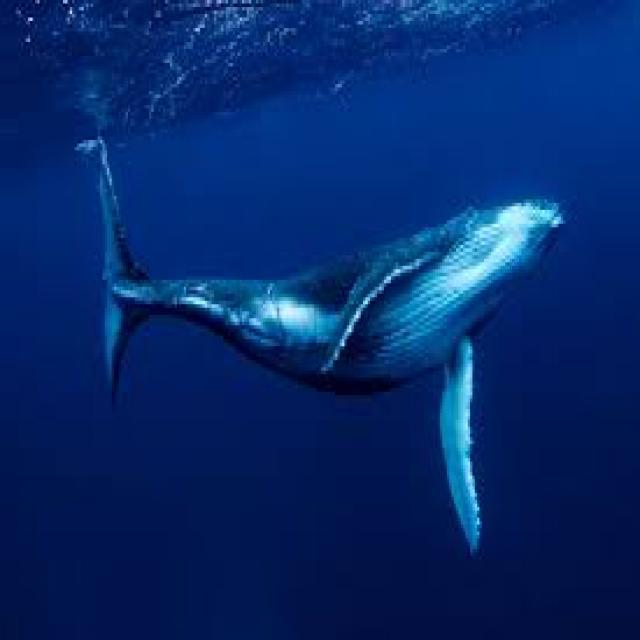blue_whale: (75, 109, 578, 580)
